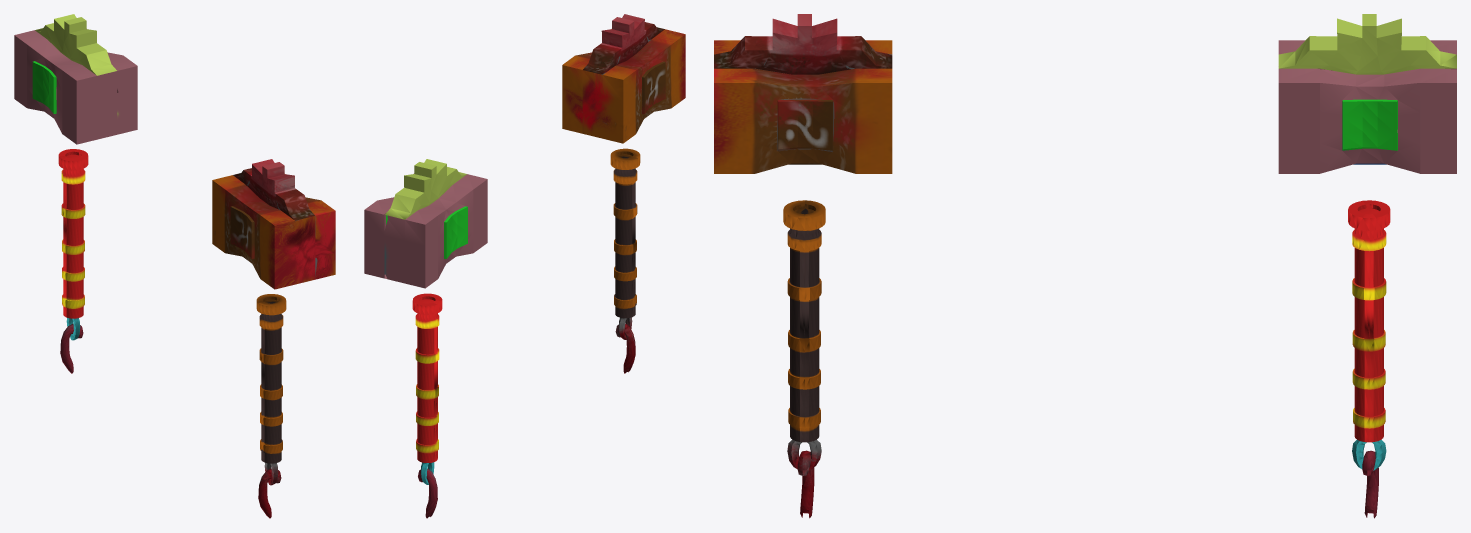
The model's file is Texture_Test.obj.
3 views of the same model, side by side, from view 1: azimuth 30°, elevation 25°; view 2: azimuth 150°, elevation 25°; view 3: azimuth 270°, elevation 25° (orthographic). The views are drawn at different scales.
Parts seen in each view (by area): view 1: Hammer, Hammer.001; view 2: Hammer, Hammer.001; view 3: Hammer, Hammer.001.
Part boxes in pixels (x1,y1,x2,y2): Hammer: [212, 159, 335, 518]; Hammer.001: [14, 14, 137, 373]; Hammer: [562, 14, 685, 373]; Hammer.001: [364, 159, 487, 518]; Hammer: [714, 14, 892, 518]; Hammer.001: [1278, 14, 1456, 518].
Size of the model in its own units: 1.05 by 5.51 by 7.39.
